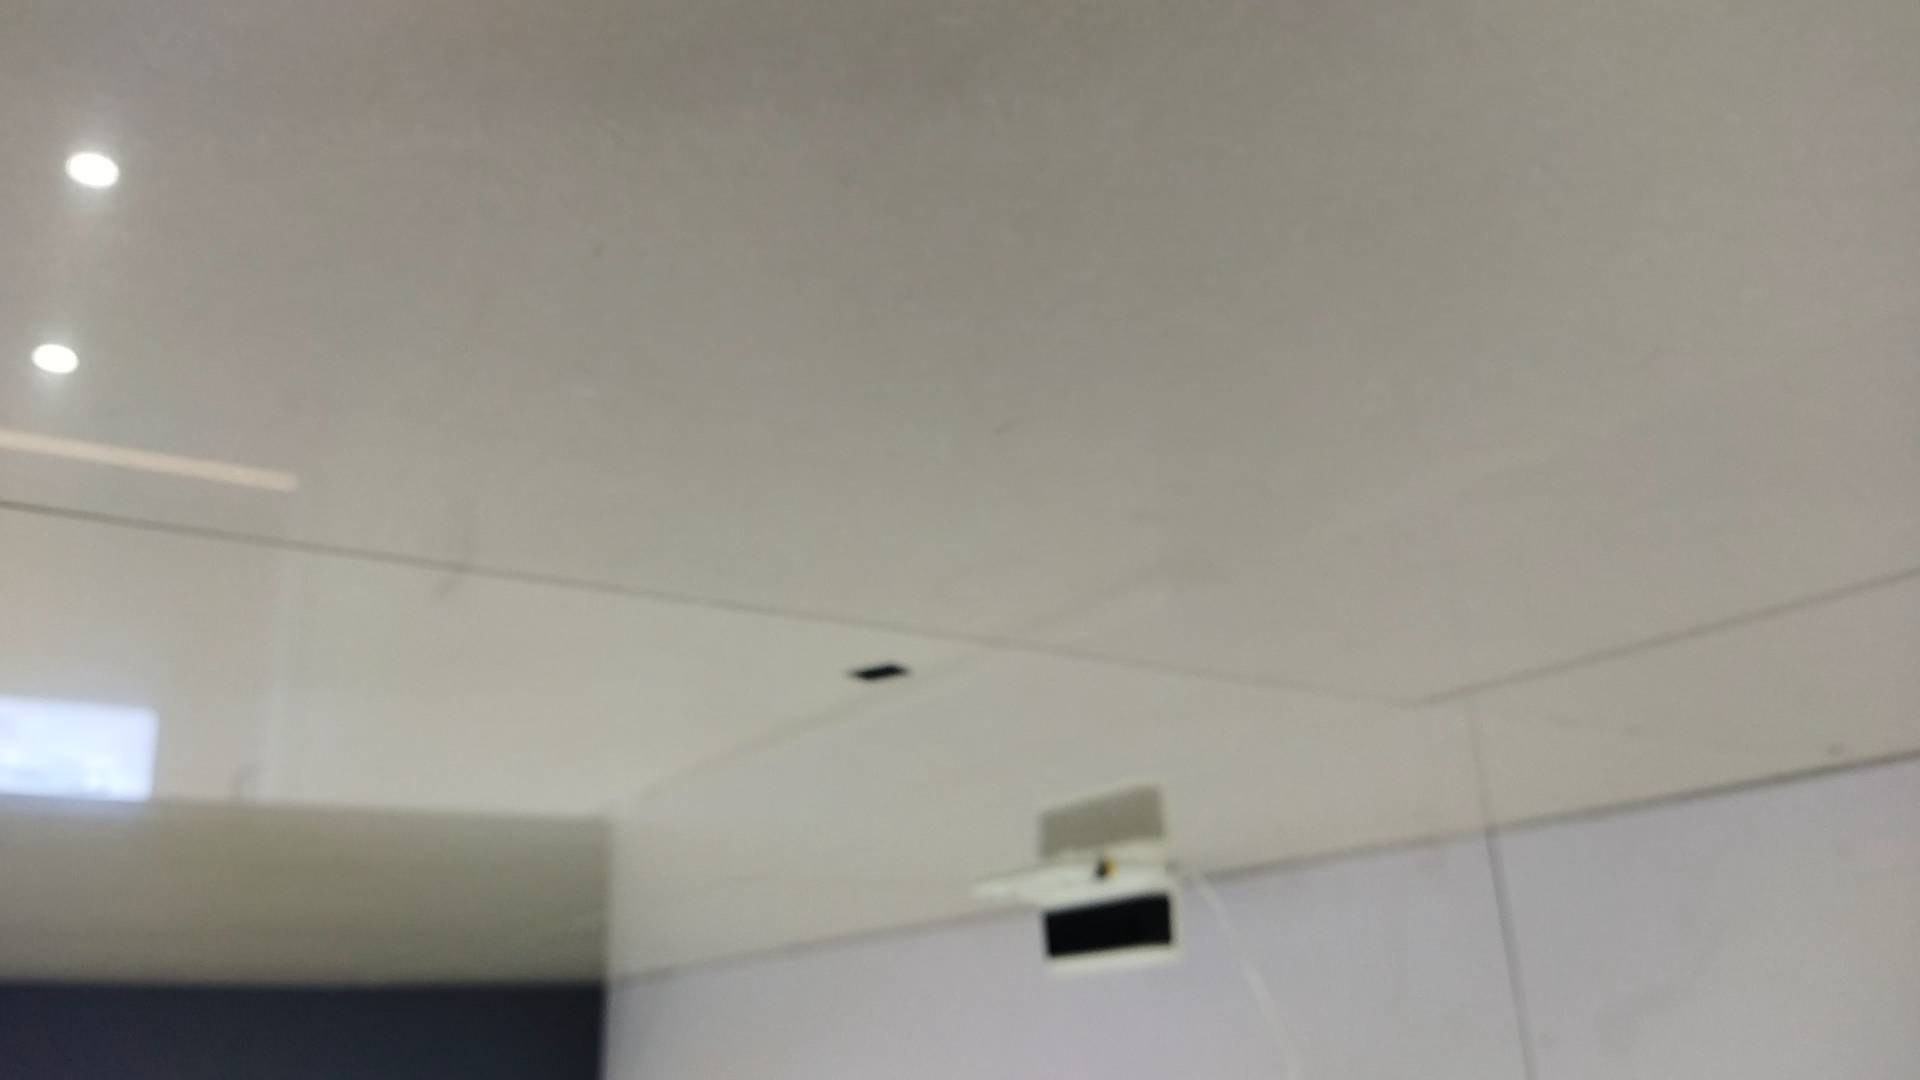recharge seat: (969, 851, 1189, 971)
